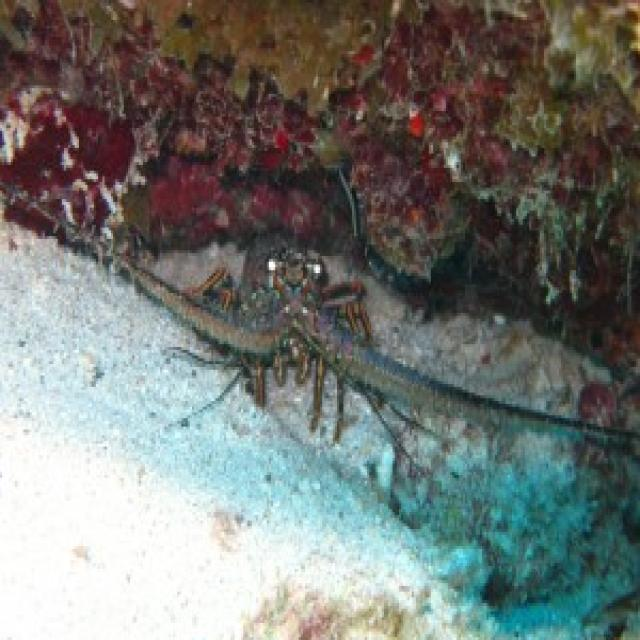lobsters: (77, 227, 631, 566)
